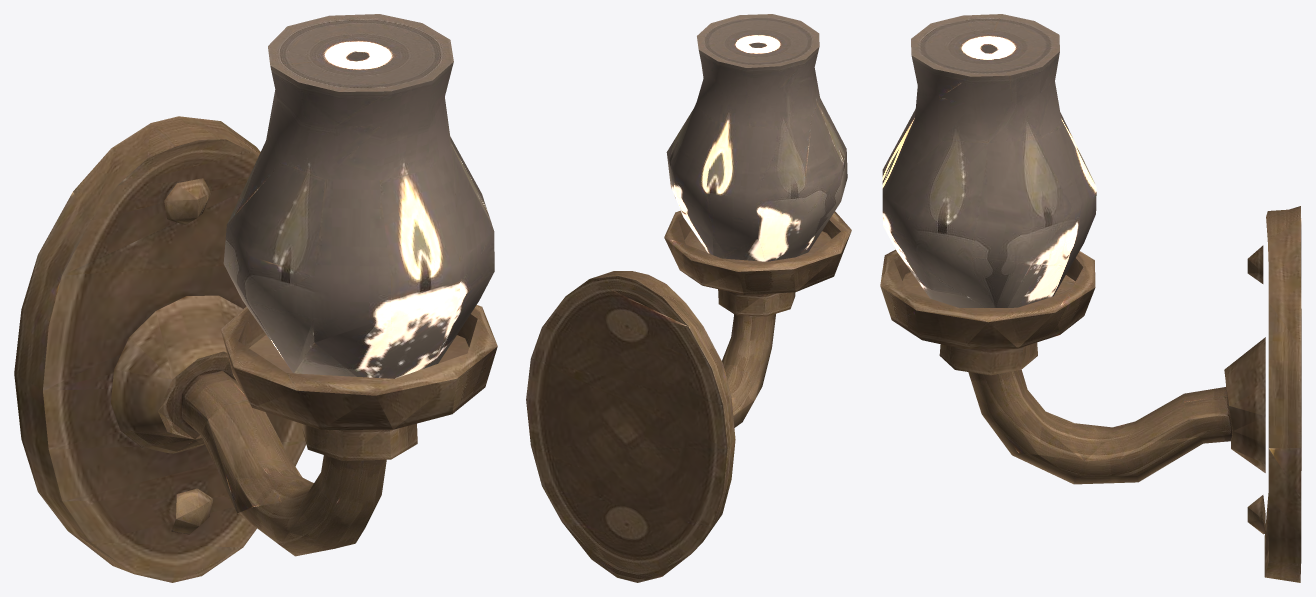
The model's file is wall-sconce.glb.
The picture shows the model from 3 angles, left to right: view 1: azimuth 30°, elevation 25°; view 2: azimuth 150°, elevation 25°; view 3: azimuth 270°, elevation 25°; orthographic projection. The views are drawn at different scales.
Parts seen in each view (by area): view 1: GLTF; view 2: GLTF; view 3: GLTF.
Boxes of the visible parts, <box> form: GLTF: <box>14,14,497,582</box>; GLTF: <box>526,14,851,582</box>; GLTF: <box>880,14,1301,582</box>.
Bounding box in the file's own units: 0.1521 × 0.3206 × 0.2303.
Materials: 1 (1 with a texture image).
